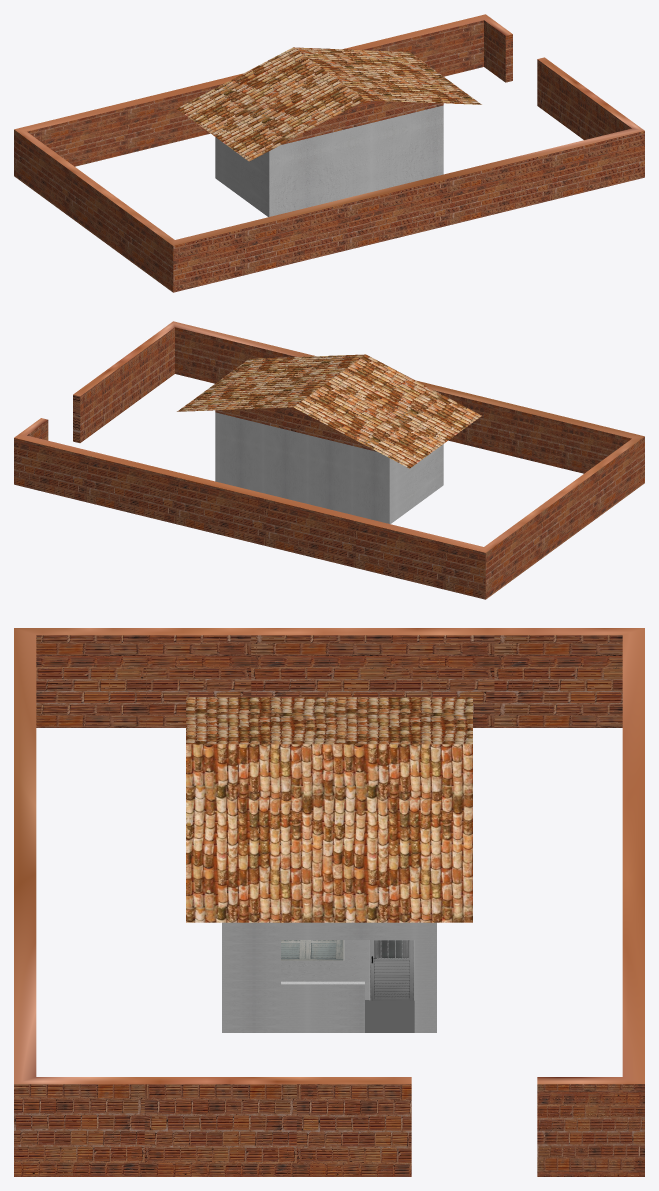
The model's file is casacommurov4.glb.
3 views of the same model, one above another, from view 1: azimuth 30°, elevation 25°; view 2: azimuth 150°, elevation 25°; view 3: azimuth 270°, elevation 25° (orthographic). The views are drawn at different scales.
Visible parts, largest first — view 1: Muro.001, Casa.001; view 2: Muro.001, Casa.001; view 3: Muro.001, Casa.001, Cubo.005, Cubo.006.
Part boxes in pixels (x1,y1,x2,y2): Muro.001: (14, 14, 644, 292); Casa.001: (177, 47, 481, 216); Muro.001: (14, 321, 644, 599); Casa.001: (177, 354, 481, 523); Muro.001: (14, 628, 644, 1176); Casa.001: (186, 697, 472, 1032); Cubo.005: (369, 940, 414, 1000); Cubo.006: (281, 940, 344, 960).
Size of the model in its own units: 70.38 by 14.69 by 41.15.
Materials: 9 (7 with a texture image).
